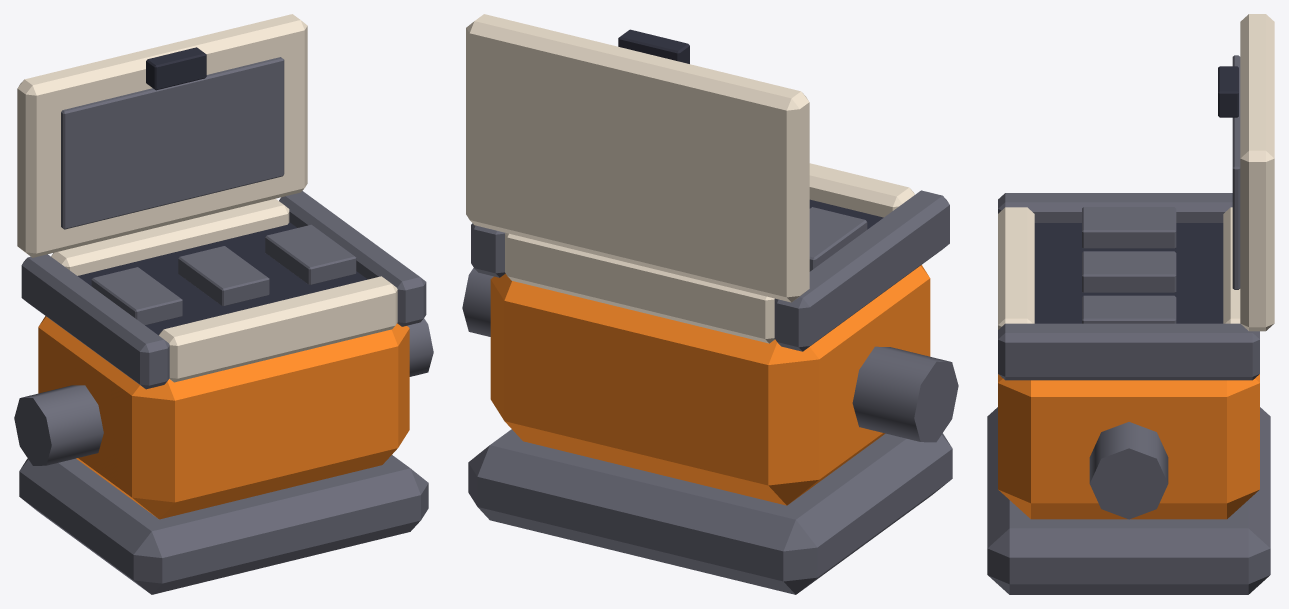
Rendered from asset.glb.
The picture shows the model from 3 angles, left to right: view 1: azimuth 30°, elevation 25°; view 2: azimuth 150°, elevation 25°; view 3: azimuth 270°, elevation 25°; orthographic projection. The views are drawn at different scales.
Parts seen in each view (by area): view 1: Mesh_orange housing, Mesh_base, Mesh_lid inset, Mesh_lid panel, Mesh_rim edge (×2), Mesh_rim side (×2), Mesh_terminal (×3), Mesh_cable connector (×2), Mesh_interior floor, Mesh_lid latch; view 2: Mesh_lid panel, Mesh_orange housing, Mesh_base, Mesh_rim edge (×2), Mesh_rim side (×2), Mesh_cable connector (×2), Mesh_terminal, Mesh_lid latch; view 3: Mesh_orange housing, Mesh_base, Mesh_rim side (×2), Mesh_lid panel, Mesh_terminal (×3), Mesh_interior floor, Mesh_cable connector, Mesh_rim edge (×2), Mesh_lid inset, Mesh_lid latch.
Boxes of the visible parts, box(x1,y1,x2,y2) form: Mesh_orange housing: box(38, 316, 409, 519); Mesh_base: box(19, 455, 428, 594); Mesh_lid inset: box(61, 57, 284, 229); Mesh_lid panel: box(17, 14, 307, 257); Mesh_rim edge (×2): box(51, 198, 397, 382); Mesh_rim side (×2): box(21, 191, 426, 389); Mesh_terminal (×3): box(91, 224, 356, 325); Mesh_cable connector (×2): box(14, 318, 433, 465); Mesh_interior floor: box(78, 222, 367, 335); Mesh_lid latch: box(146, 47, 206, 90); Mesh_lid panel: box(466, 14, 809, 302); Mesh_orange housing: box(490, 265, 930, 505); Mesh_base: box(468, 429, 952, 594); Mesh_rim edge (×2): box(505, 163, 914, 343); Mesh_rim side (×2): box(471, 190, 949, 351); Mesh_cable connector (×2): box(462, 268, 958, 442); Mesh_terminal: box(809, 207, 867, 271); Mesh_lid latch: box(618, 29, 689, 63); Mesh_orange housing: box(998, 374, 1259, 519); Mesh_base: box(987, 407, 1270, 594); Mesh_rim side (×2): box(998, 193, 1259, 380); Mesh_lid panel: box(1240, 14, 1274, 331); Mesh_terminal (×3): box(1082, 207, 1176, 323); Mesh_interior floor: box(1034, 223, 1223, 323); Mesh_cable connector: box(1089, 422, 1168, 519); Mesh_rim edge (×2): box(998, 207, 1240, 329); Mesh_lid inset: box(1232, 55, 1240, 289); Mesh_lid latch: box(1218, 66, 1238, 117).
Bounding box in the file's own units: 0.88 × 0.9475 × 0.5475.
